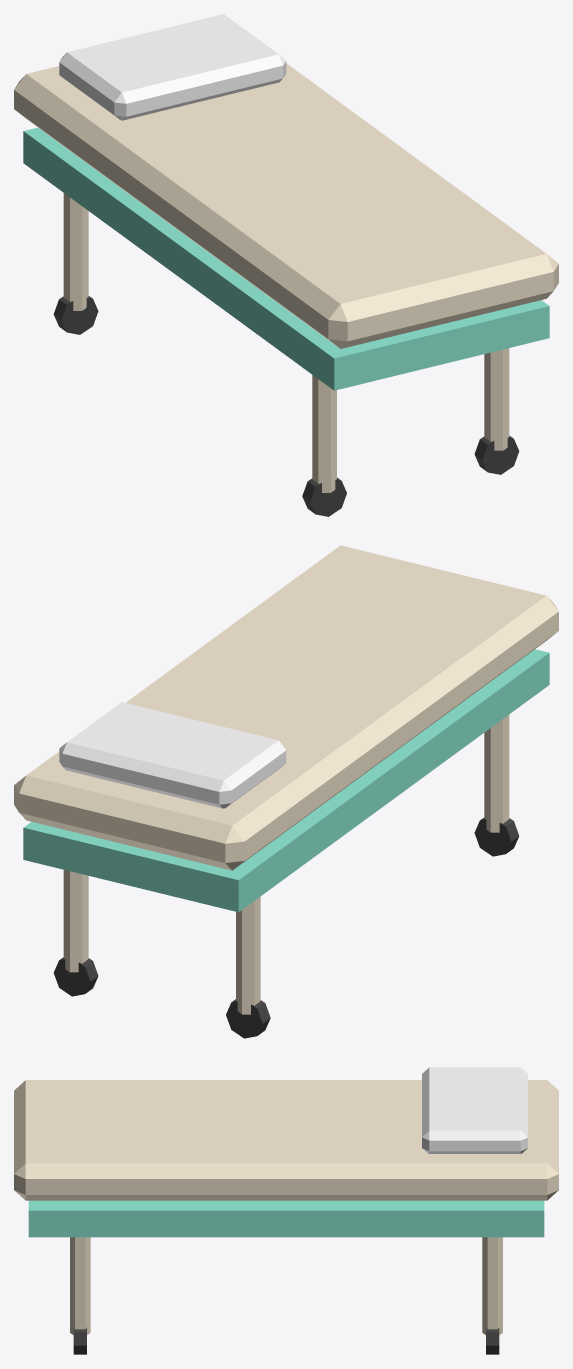
3 renders of one model, top to bottom at view 1: azimuth 30°, elevation 25°; view 2: azimuth 150°, elevation 25°; view 3: azimuth 270°, elevation 25°, orthographic. The views are drawn at different scales.
Visible parts, largest first — view 1: Mattress, Base, Pillow, Leg.001, Leg, Leg.002, Wheel.002, Wheel.001, Wheel; view 2: Mattress, Base, Pillow, Leg, Leg.001, Leg.003, Wheel, Wheel.003, Wheel.001; view 3: Mattress, Base, Pillow, Leg.002, Leg.003, Wheel.002, Wheel.003.
Boxes of the visible parts, <box> form: Mattress: <box>14,63,558,348</box>; Base: <box>23,127,549,390</box>; Pillow: <box>59,14,286,120</box>; Leg.001: <box>63,193,88,310</box>; Leg: <box>312,375,336,492</box>; Leg.002: <box>484,348,509,450</box>; Wheel.002: <box>474,435,519,474</box>; Wheel.001: <box>53,296,98,334</box>; Wheel: <box>302,477,346,516</box>; Mattress: <box>14,545,558,870</box>; Base: <box>23,649,549,912</box>; Pillow: <box>59,702,286,808</box>; Leg: <box>484,715,509,832</box>; Leg.001: <box>236,896,260,1014</box>; Leg.003: <box>63,870,88,972</box>; Wheel: <box>474,817,519,856</box>; Wheel.003: <box>53,957,98,996</box>; Wheel.001: <box>226,999,270,1038</box>; Mattress: <box>14,1080,558,1200</box>; Base: <box>28,1200,544,1237</box>; Pillow: <box>422,1067,527,1153</box>; Leg.002: <box>70,1237,90,1334</box>; Leg.003: <box>482,1237,502,1334</box>; Wheel.002: <box>73,1327,86,1354</box>; Wheel.003: <box>486,1327,499,1354</box>.
Bounding box in the file's own units: 75 × 82.5 × 185.
